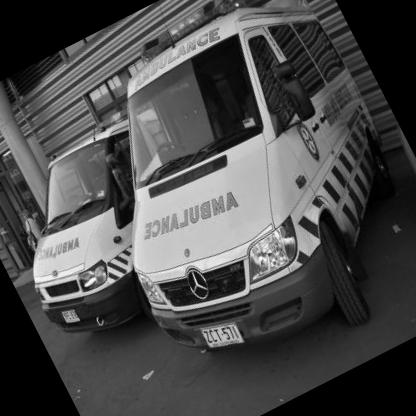ambulance: (48, 1, 416, 408), (1, 118, 199, 356)
